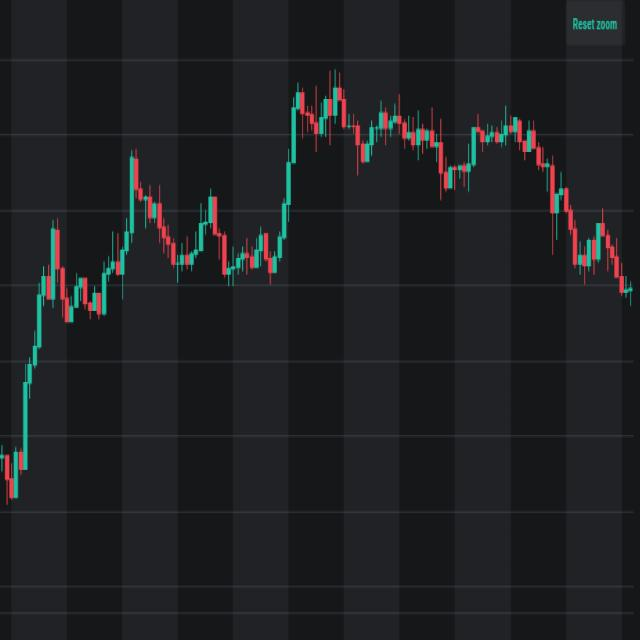Falling-Wedge: (282, 10, 640, 288)
